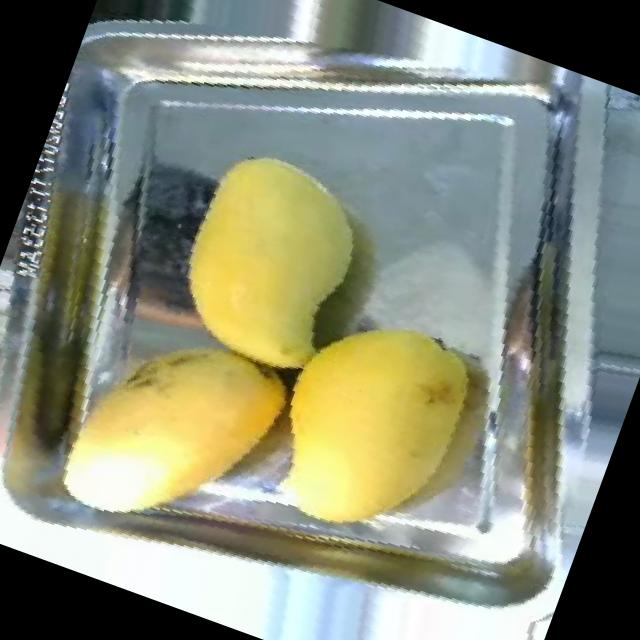fruit: (219, 264, 532, 585), (120, 99, 418, 423), (26, 276, 332, 578)
